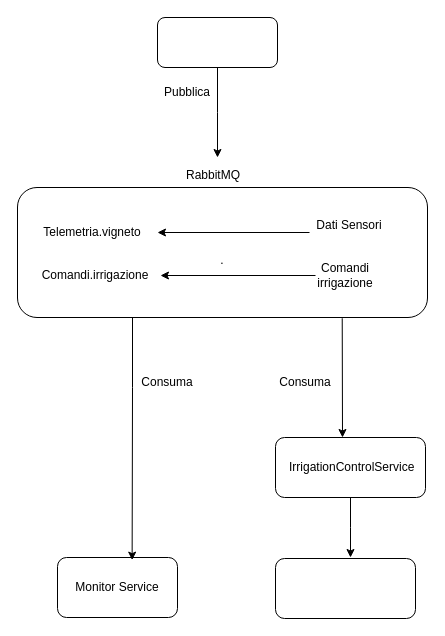
The diagram is 445 pixels wide and 636 high, and some of its shapes have lost their labels. Each missing label, with the box of its shape:
Attuatore Simul.: (274, 558, 416, 618)
Producer IoT (Sensore Umidità/Temp.): (156, 16, 278, 68)
